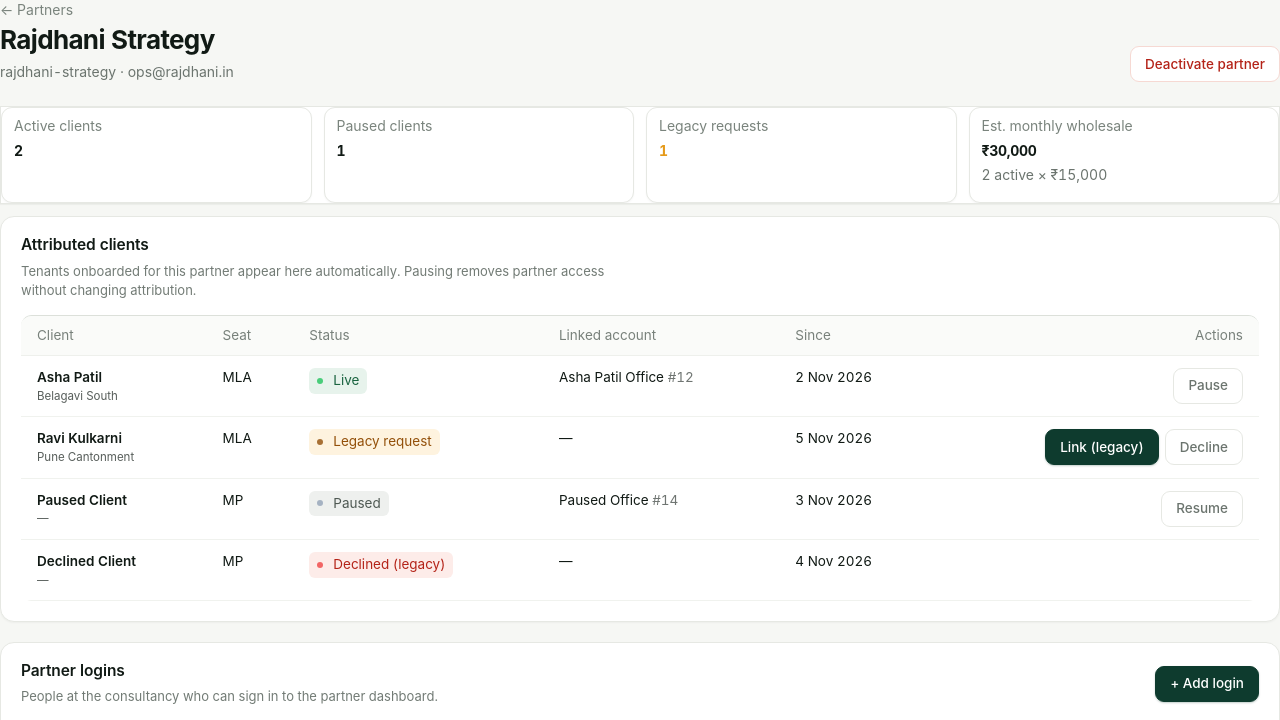
Test case: Admin partner detail › tells the operator when there is no account to link
Click the button "Link (legacy)" at [1102, 447], box [1045,429,1159,465]
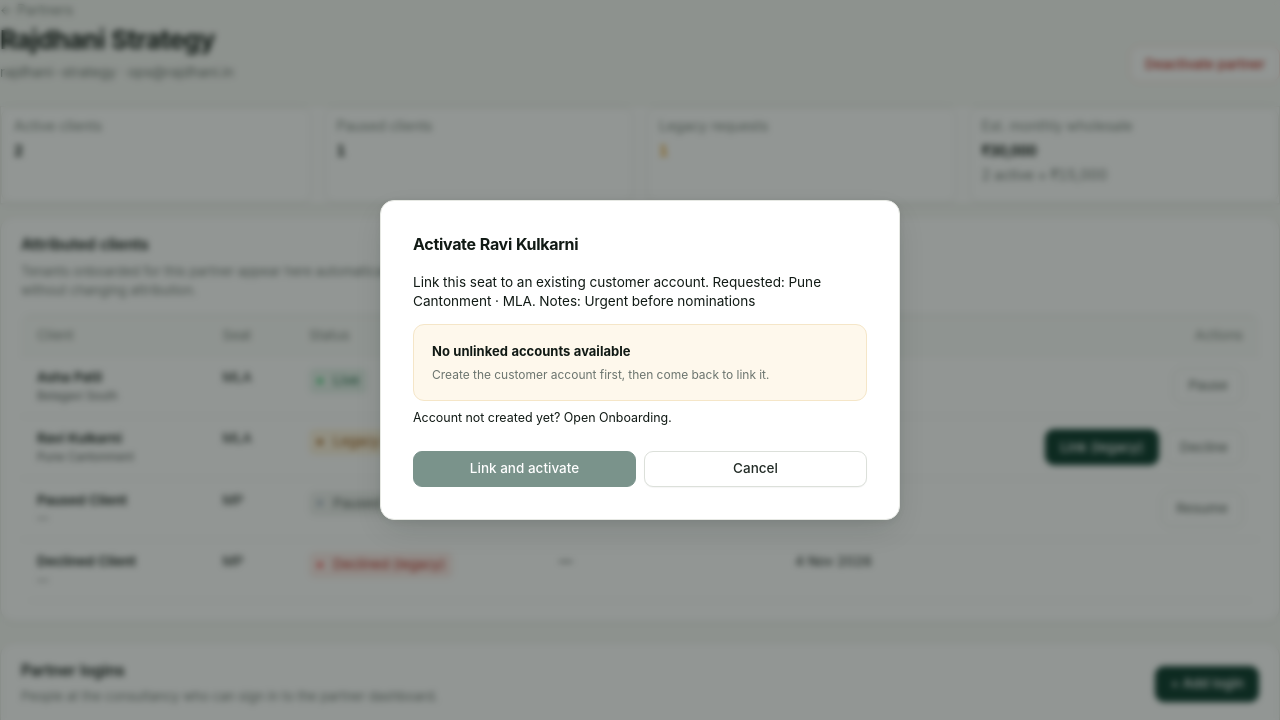
Result: the text "No unlinked accounts available" is shown at [432,343,630,359]
